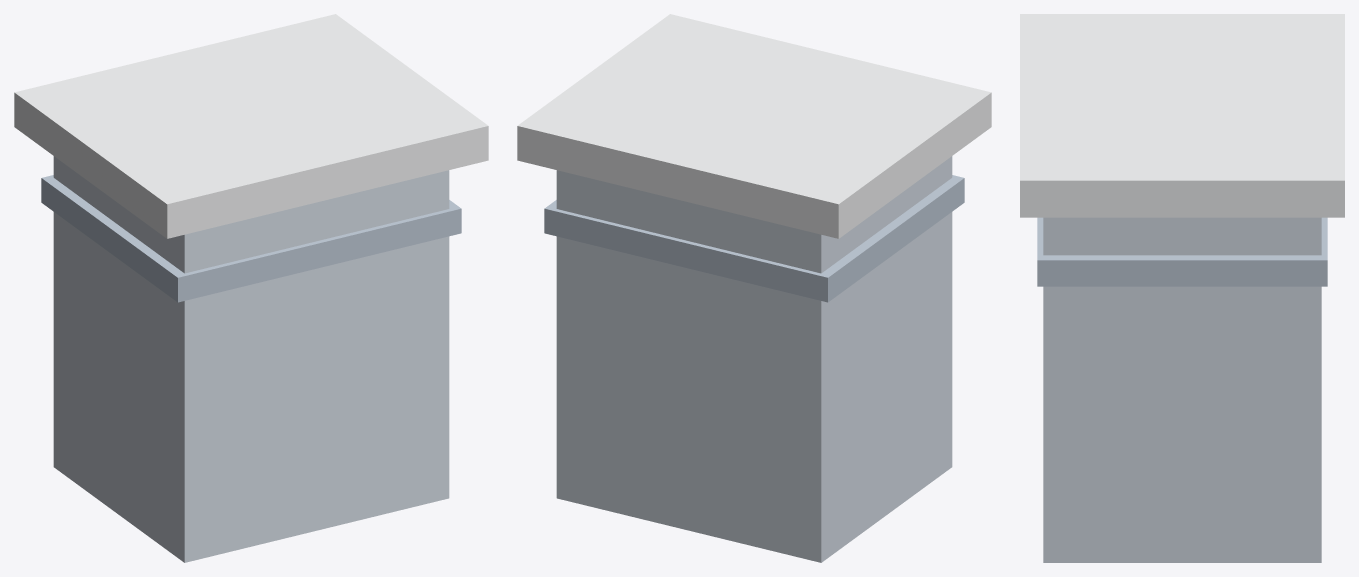
Rendered from bedside_table.glb.
The picture shows the model from 3 angles, left to right: view 1: azimuth 30°, elevation 25°; view 2: azimuth 150°, elevation 25°; view 3: azimuth 270°, elevation 25°; orthographic projection. The views are drawn at different scales.
Visible parts, largest first — view 1: compact bedside cabinet body, small overbed tray top, drawer dark reveal line; view 2: compact bedside cabinet body, small overbed tray top, drawer dark reveal line; view 3: compact bedside cabinet body, small overbed tray top, drawer dark reveal line.
Boxes of the visible parts, <box> form: compact bedside cabinet body: <box>53,156,449,562</box>; small overbed tray top: <box>14,14,488,238</box>; drawer dark reveal line: <box>41,175,461,302</box>; compact bedside cabinet body: <box>556,156,952,562</box>; small overbed tray top: <box>517,14,991,238</box>; drawer dark reveal line: <box>544,175,964,302</box>; compact bedside cabinet body: <box>1043,217,1321,562</box>; small overbed tray top: <box>1020,14,1344,217</box>; drawer dark reveal line: <box>1037,217,1327,286</box>.
Bounding box in the file's own units: 0.34 × 0.3775 × 0.28.
